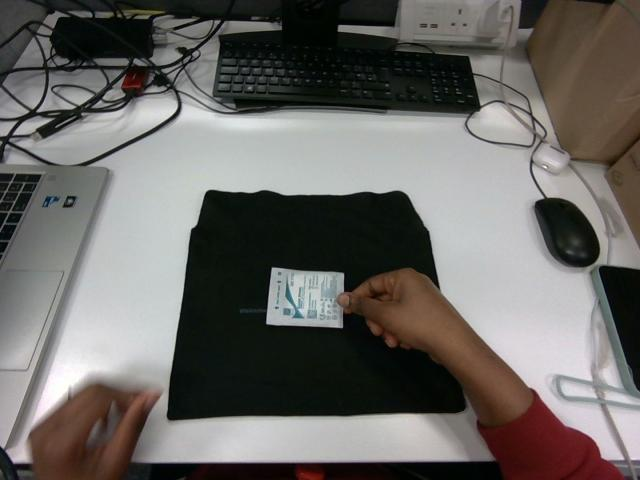gauze: (267, 267, 343, 326)
